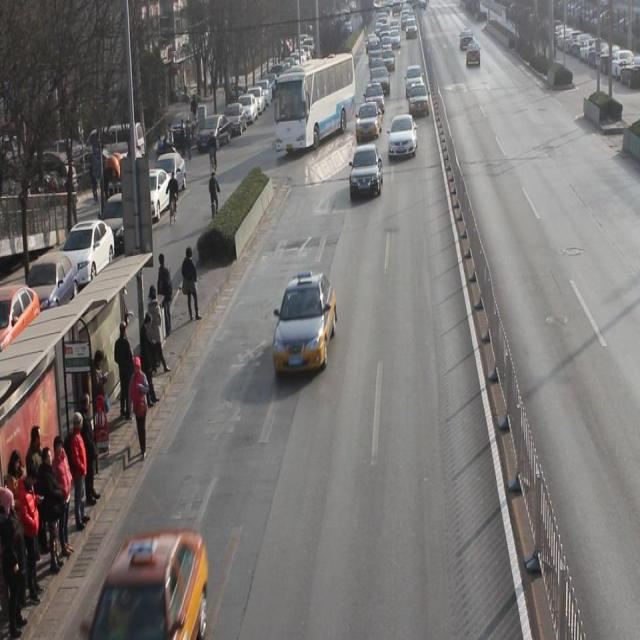car: (89, 527, 209, 640), (274, 271, 338, 370), (349, 145, 384, 199), (388, 114, 418, 158), (356, 102, 384, 140), (408, 82, 430, 117), (364, 82, 386, 115)
van: (273, 54, 356, 153)
